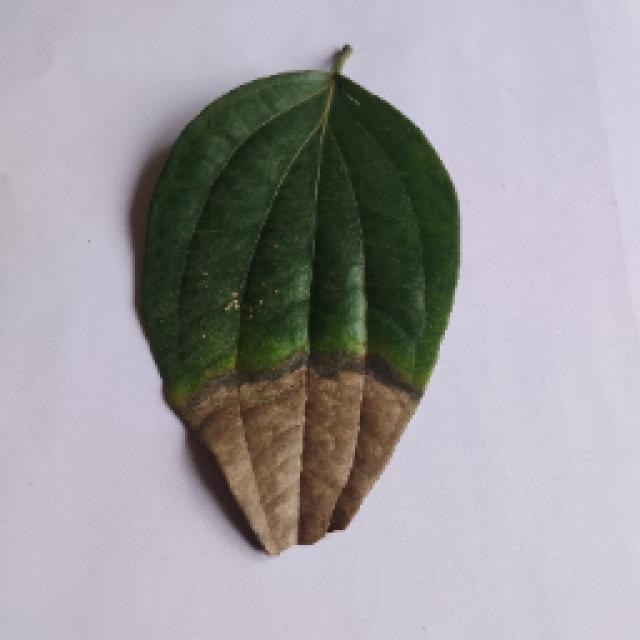footrot: (130, 45, 470, 553)
